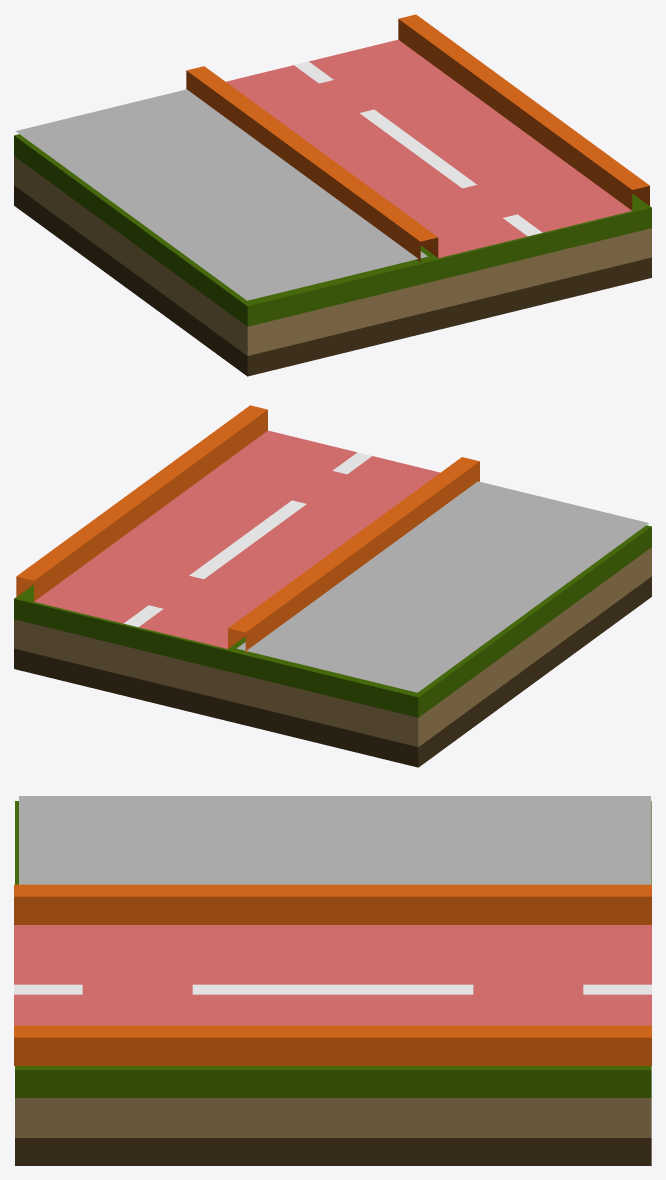
Rendered from bicycle road_setup.fbx.
3 views of the same model, one above another, from view 1: azimuth 30°, elevation 25°; view 2: azimuth 150°, elevation 25°; view 3: azimuth 270°, elevation 25° (orthographic). The views are drawn at different scales.
Parts seen in each view (by area): view 1: Plane.003; view 2: Plane.003; view 3: Plane.003.
Boxes of the visible parts, bbox=[...] form: Plane.003: bbox=[14, 14, 651, 376]; Plane.003: bbox=[14, 405, 651, 767]; Plane.003: bbox=[14, 796, 651, 1165].
Bounding box in the file's own units: 200 × 43.86 × 200.
